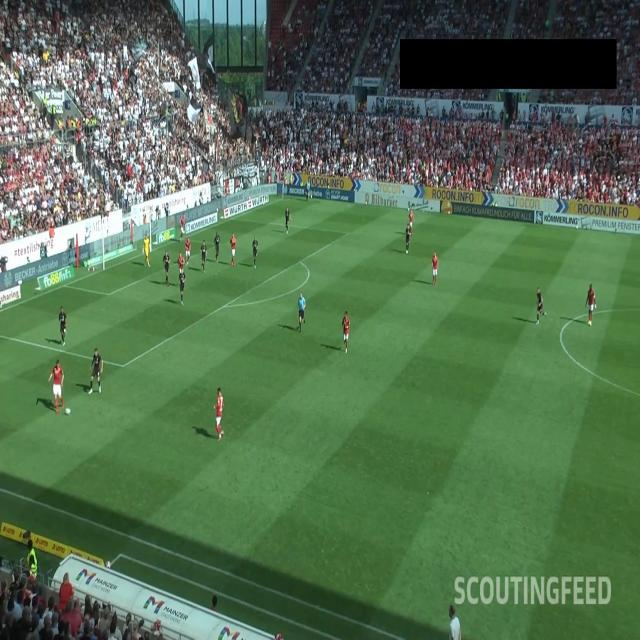ball: (65, 406, 71, 417)
